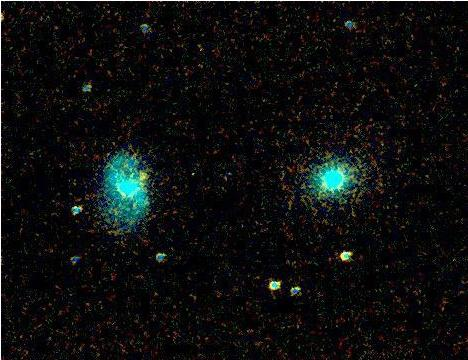star: (128, 159, 158, 189)
